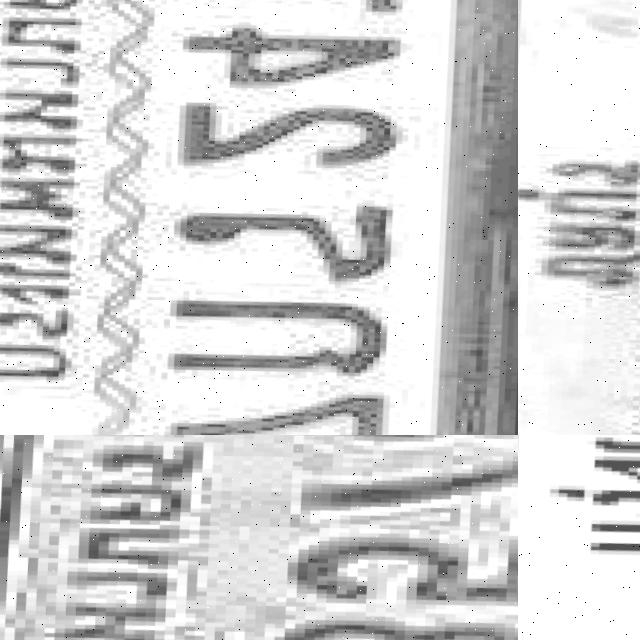license-plate: (0, 0, 518, 435), (0, 435, 518, 640), (518, 0, 640, 435), (518, 435, 640, 640)
